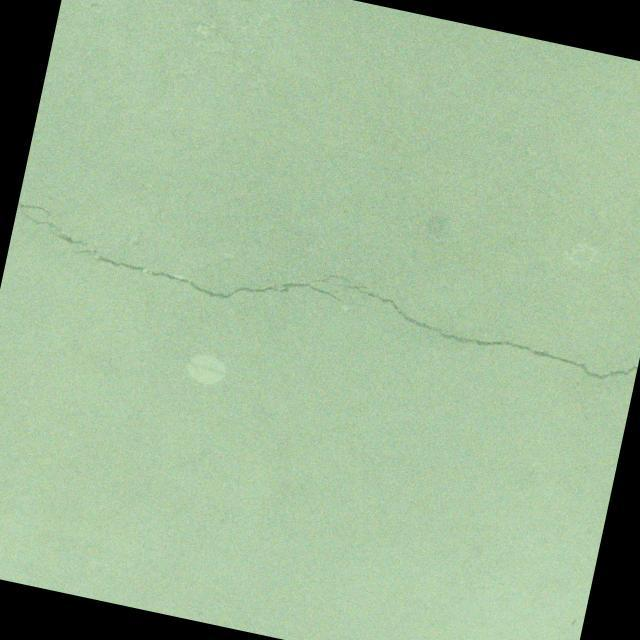crack: (59, 221, 640, 440), (12, 200, 102, 251)
